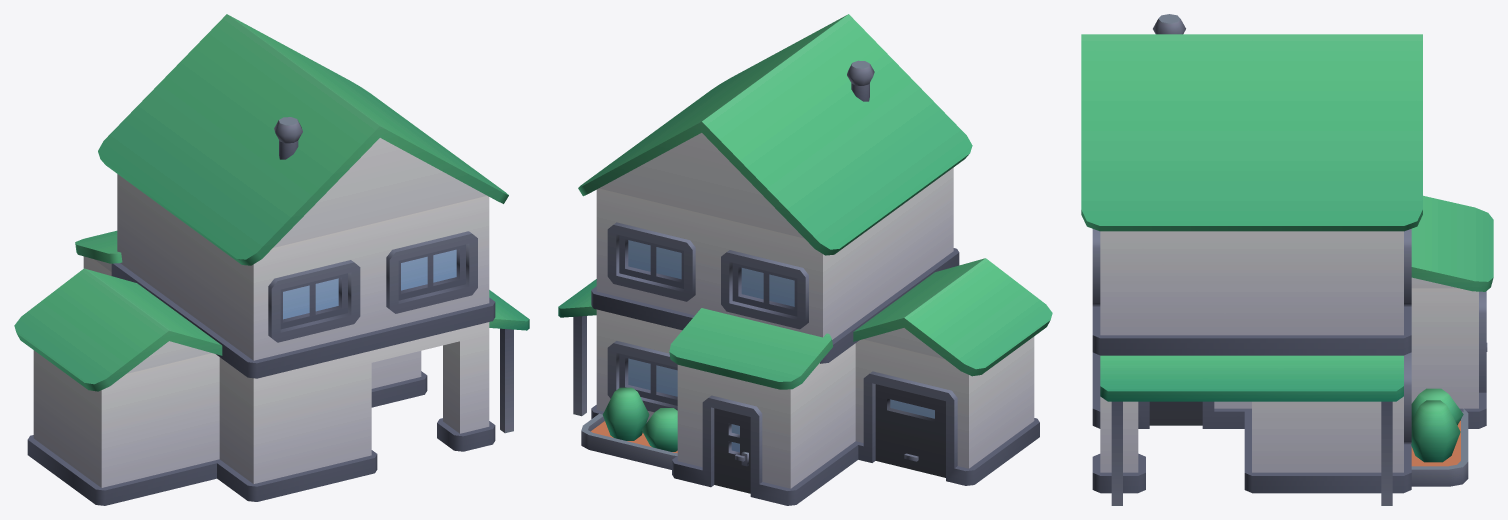
Rendered from building-type-s.glb.
The picture shows the model from 3 angles, left to right: view 1: azimuth 30°, elevation 25°; view 2: azimuth 150°, elevation 25°; view 3: azimuth 270°, elevation 25°; orthographic projection. The views are drawn at different scales.
Visible parts, largest first — view 1: building-type-s; view 2: building-type-s; view 3: building-type-s.
Boxes of the visible parts, <box> form: building-type-s: <box>14,14,529,505</box>; building-type-s: <box>558,14,1052,505</box>; building-type-s: <box>1081,14,1493,505</box>.
Bounding box in the file's own units: 1.41 × 1.14 × 1.09.
Materials: 1 (1 with a texture image).
